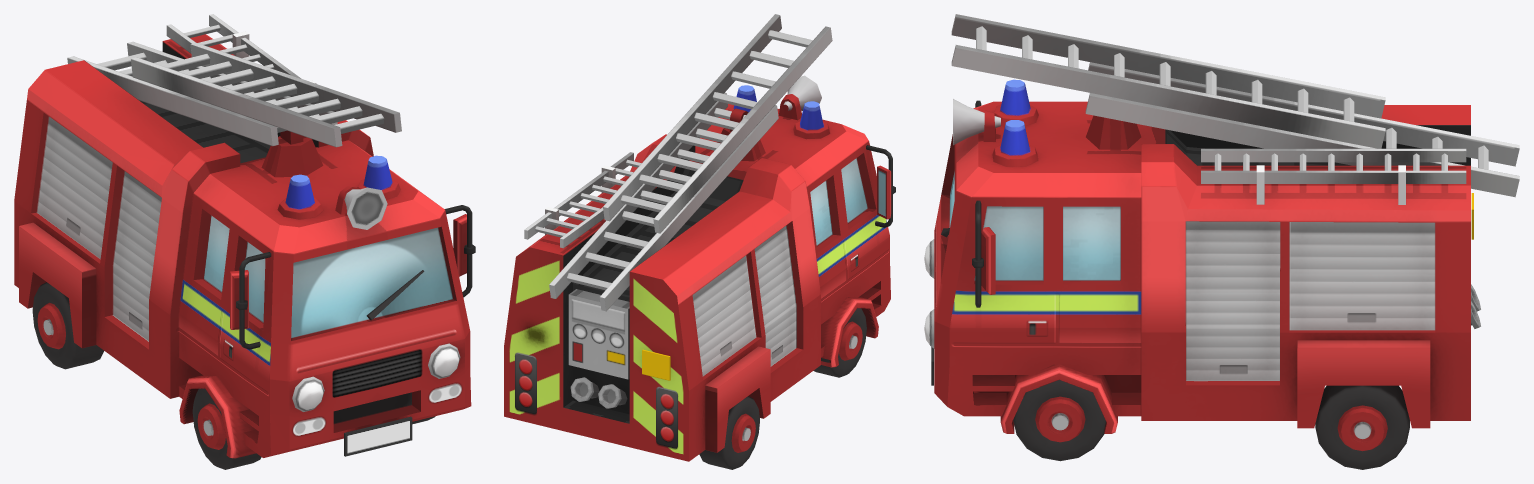
Rendered from fire-engine.glb.
3 views of the same model, side by side, from view 1: azimuth 30°, elevation 25°; view 2: azimuth 150°, elevation 25°; view 3: azimuth 270°, elevation 25° (orthographic). The views are drawn at different scales.
Visible parts, largest first — view 1: polySurface43; view 2: polySurface43; view 3: polySurface43.
Boxes of the visible parts, <box> form: polySurface43: <box>14,14,475,469</box>; polySurface43: <box>504,14,895,469</box>; polySurface43: <box>924,14,1519,469</box>.
Bounding box in the file's own units: 0.0359 × 0.0481 × 0.0687.
1 material, 1 textured.
